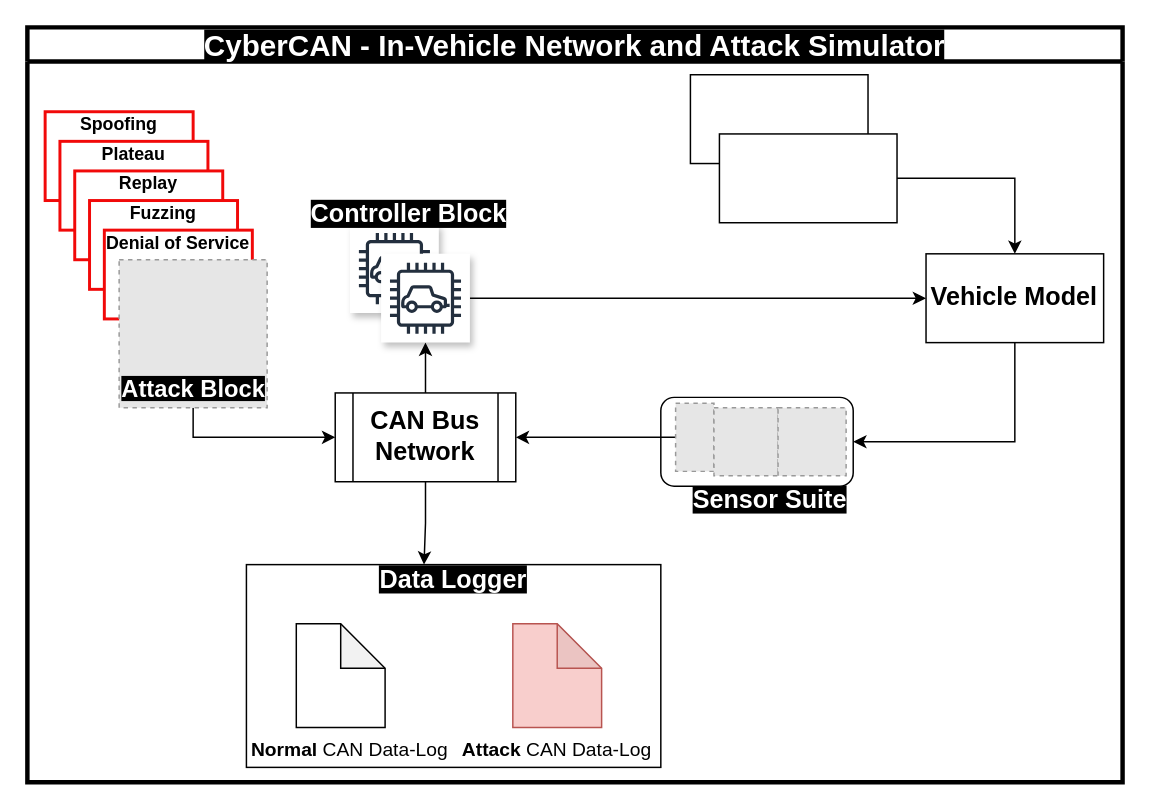
Image size: 1150x810. Some labels were removed from this diagram. Grey dashed boxes stand in for pictures. Here are the shapes that lost their labels. From the top down, the centre of each, then its label:
the point at 778,118: Road Scenario
the point at 807,177: Drive Profile
